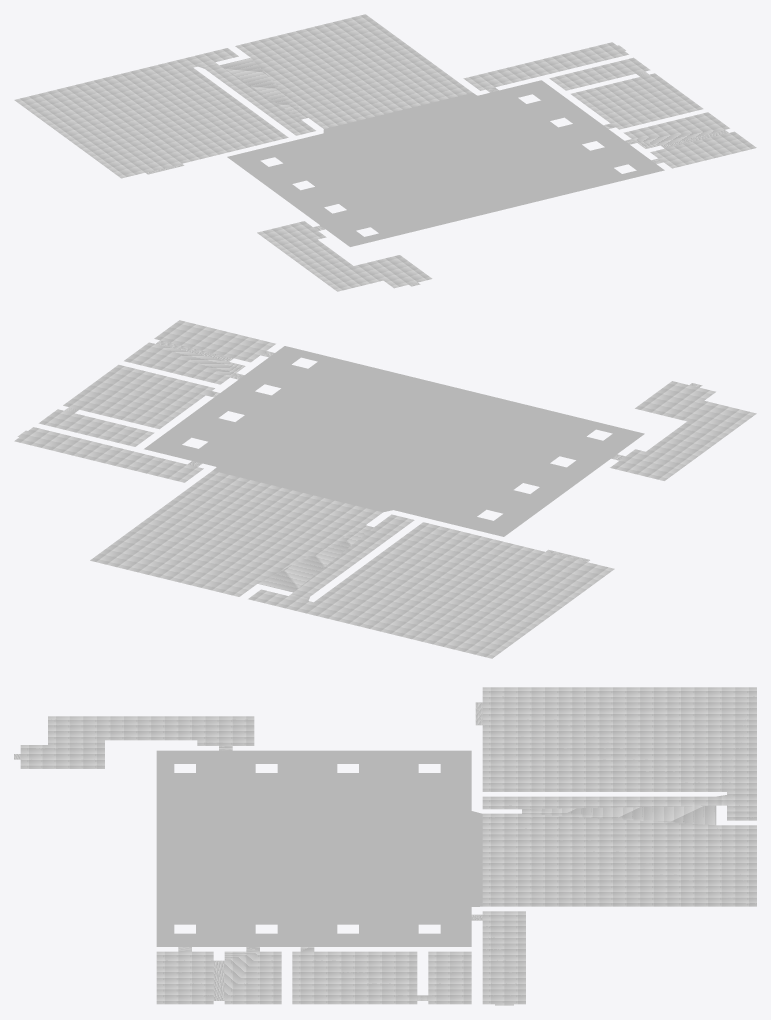
File: la_guardia_air_terminal_navmesh.obj
The picture shows the model from 3 angles, top to bottom: view 1: azimuth 30°, elevation 25°; view 2: azimuth 150°, elevation 25°; view 3: azimuth 270°, elevation 25°; orthographic projection. The views are drawn at different scales.
Parts seen in each view (by area): view 1: map_la_guardia_air_terminal_navmesh_Cube.003; view 2: map_la_guardia_air_terminal_navmesh_Cube.003; view 3: map_la_guardia_air_terminal_navmesh_Cube.003.
Boxes of the visible parts, bbox=[...] form: map_la_guardia_air_terminal_navmesh_Cube.003: bbox=[14, 14, 756, 291]; map_la_guardia_air_terminal_navmesh_Cube.003: bbox=[14, 320, 756, 658]; map_la_guardia_air_terminal_navmesh_Cube.003: bbox=[14, 687, 756, 1005].
Bounding box in the file's own units: 55.4 × 0 × 54.7.
